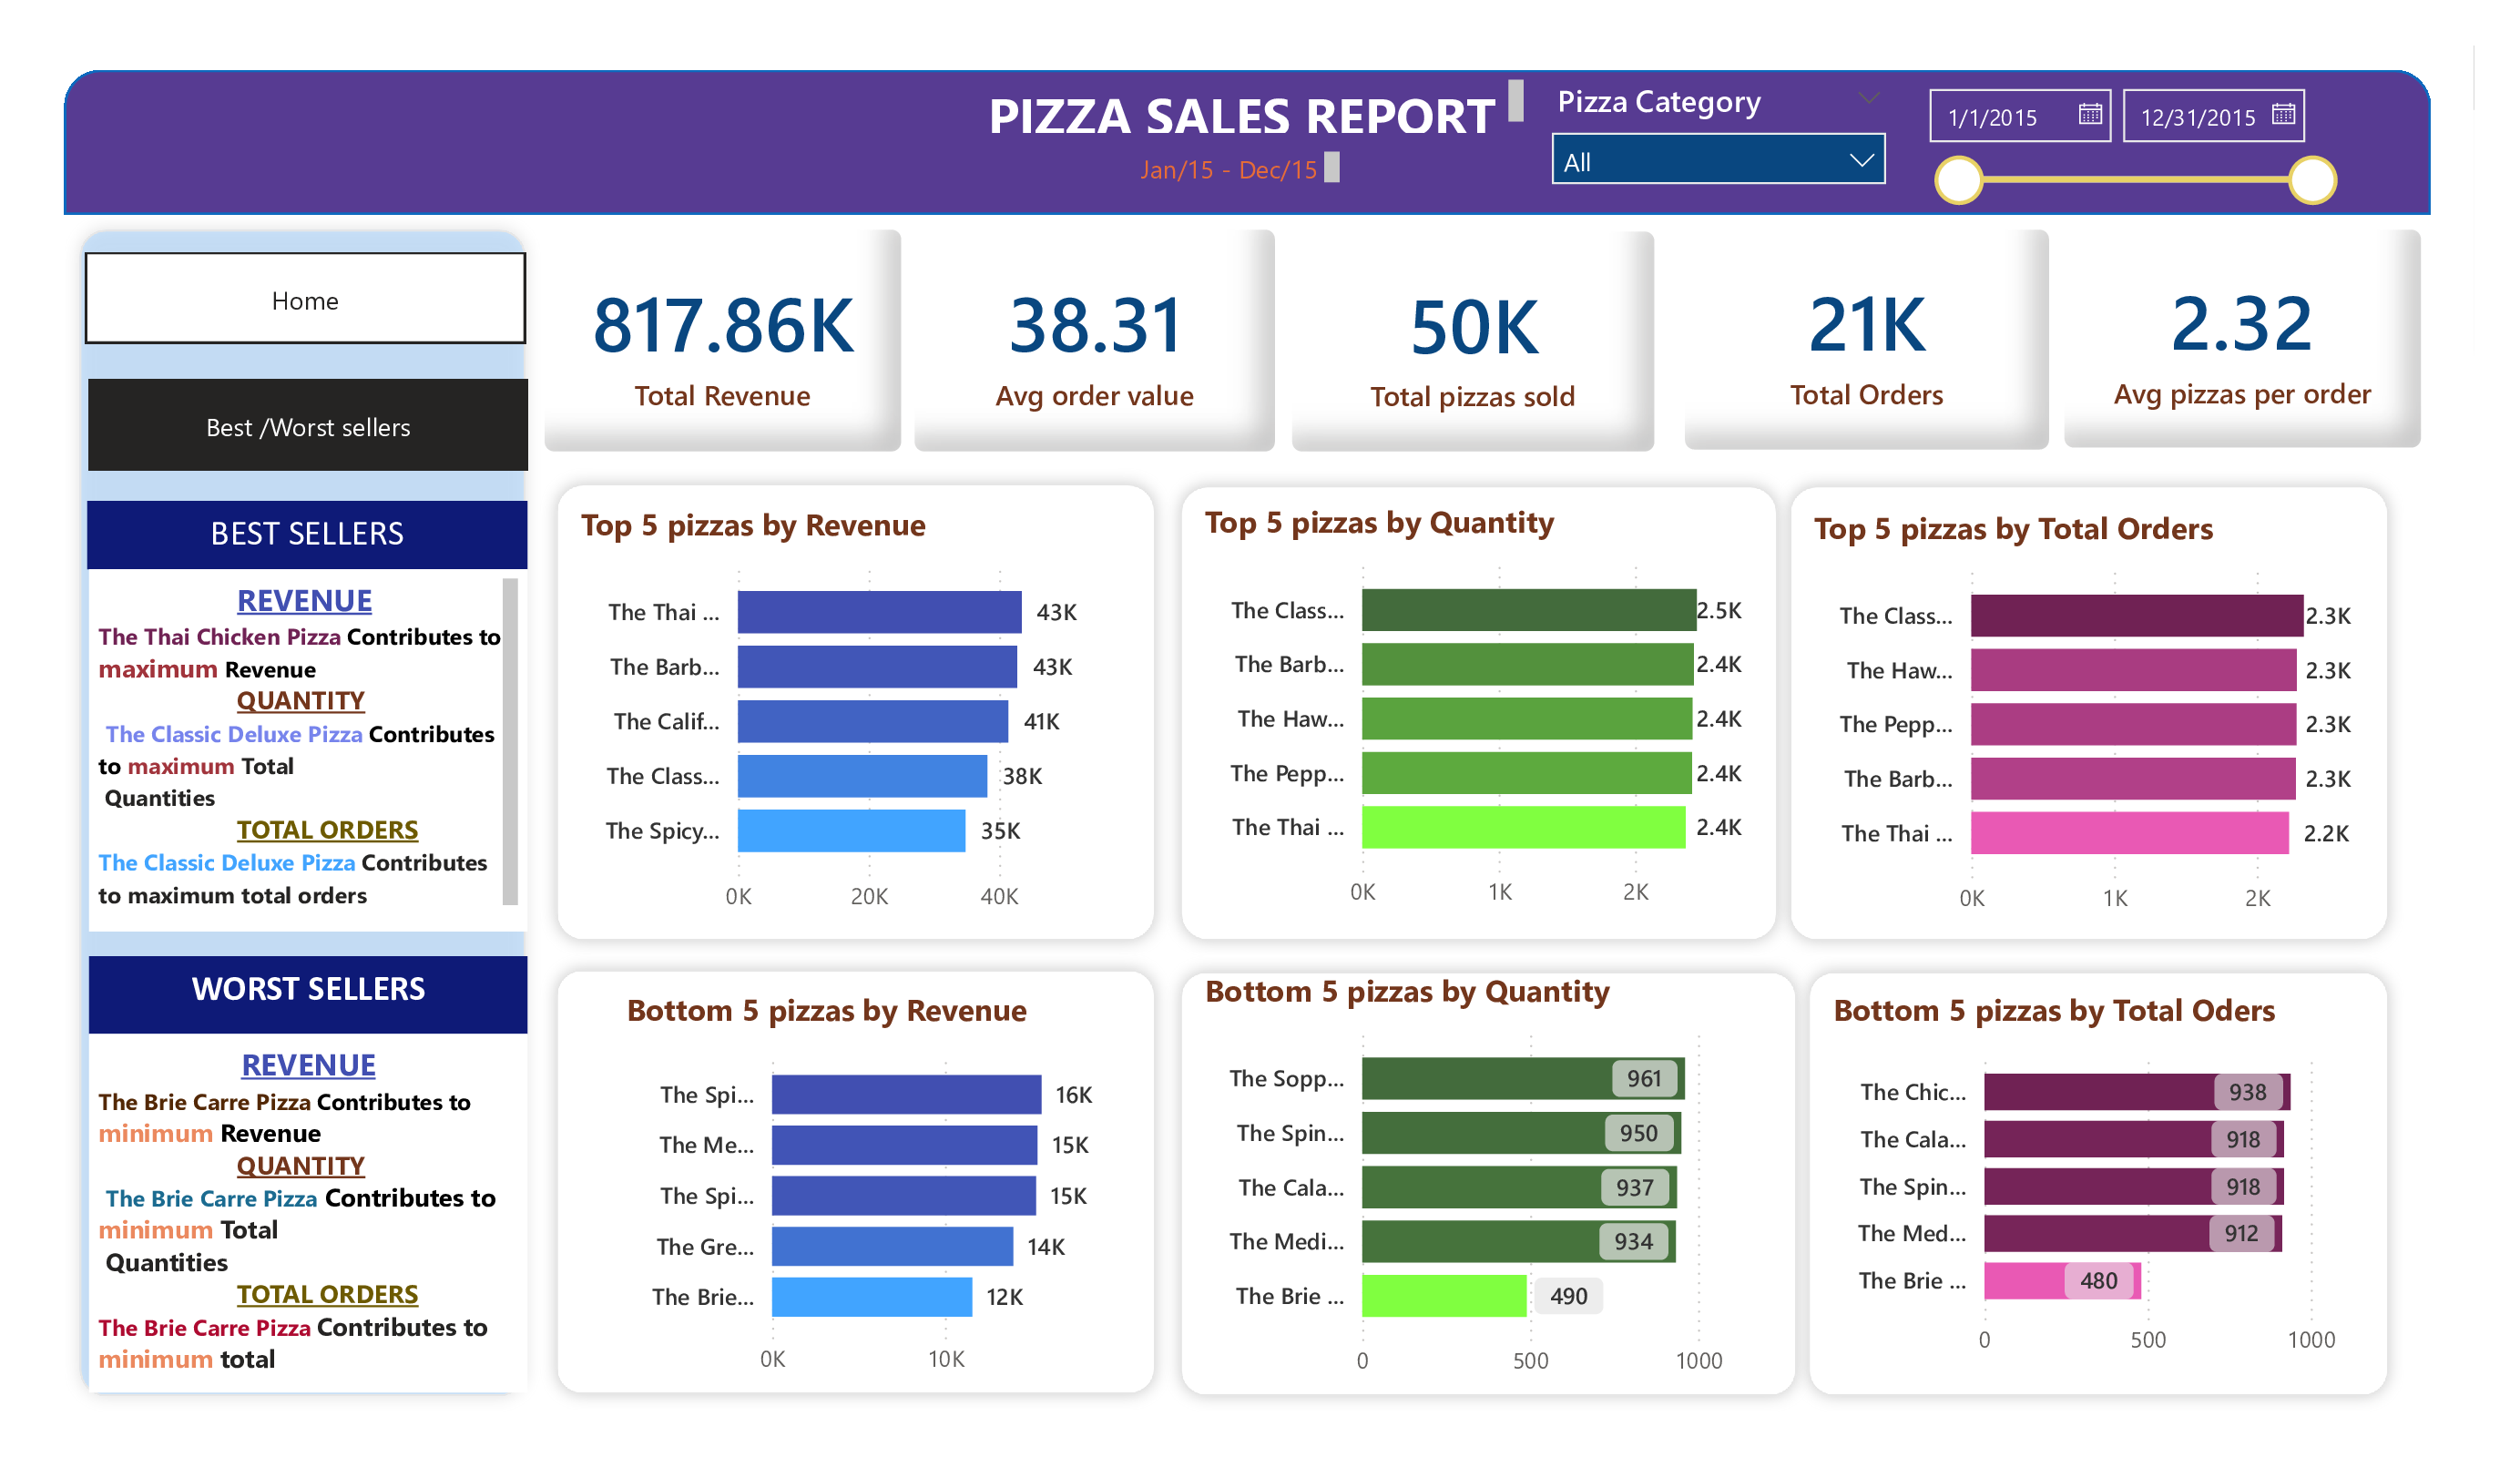

What the dashboard file says about the page in this screenshot:
{"tool":"powerbi","page":{"name":"Best /Worst sellers","canvas":[1280,720],"ordinal":1},"visuals":[{"type":"shape","box":[10,88.8,251.2,631.2],"z":0},{"type":"card","fields":{"Values":["pizza_sales.Total Revenue"]},"box":[262.1,96.1,190,119],"z":1000},{"type":"card","fields":{"Values":["pizza_sales.Avg order value"]},"box":[456.9,96.1,192.1,119],"z":2000},{"type":"card","fields":{"Values":["pizza_sales.Total pizzas sold"]},"box":[655.9,97.4,193.5,118],"z":3000},{"type":"card","fields":{"Values":["pizza_sales.Total Orders"]},"box":[863.1,96.1,193.5,118],"z":4000},{"type":"shape","box":[10,12.9,1247.1,75.7],"z":5000},{"type":"card","fields":{"Values":["pizza_sales.Avg pizzas per order"]},"box":[1063.5,96.1,189.4,116.6],"z":6000},{"type":"textbox","box":[485,13,299,38],"z":7000},{"type":"textbox","box":[569,51,118,26],"z":8000},{"type":"shape","box":[261.4,222.9,331.4,257.1],"z":9000},{"type":"shape","box":[911.4,224.3,331.4,255.7],"z":10000},{"type":"textbox","box":[22,240.1,231.9,35.7],"z":11000},{"type":"textbox","box":[22.9,275.7,231.4,191.4],"z":12000},{"type":"textbox","box":[22.5,480,231.2,41.2],"z":13000},{"type":"textbox","box":[22.5,521.2,231.2,188.8],"z":14000},{"type":"slicer","fields":{"Values":["pizza_sales.pizza_category"]},"box":[784.3,12.9,195.7,75.7],"z":15000},{"type":"slicer","fields":{"Values":["pizza_sales.order_date"]},"box":[980,12.9,235.7,75.7],"z":16000},{"type":"shape","box":[590,224.3,331.4,255.7],"z":17000},{"type":"shape","box":[921.4,480,321.4,240],"z":18000},{"type":"shape","box":[590,480,341.4,240],"z":19000},{"type":"shape","box":[261.4,478.6,331.4,240],"z":20000},{"type":"barChart","title":"Top 5 pizzas by Revenue","fields":{"Category":["pizza_sales.pizza_name"],"Y":["pizza_sales.Total Revenue"]},"box":[277.1,241.4,300,224.3],"z":21000},{"type":"barChart","title":"Bottom 5 pizzas by Revenue","fields":{"Category":["pizza_sales.pizza_name"],"Y":["pizza_sales.Total Revenue"]},"box":[301.4,497.1,275.7,212.9],"z":22000},{"type":"barChart","title":"Top 5 pizzas by Quantity","fields":{"Category":["pizza_sales.pizza_name"],"Y":["pizza_sales.Total pizzas sold"]},"box":[605.7,240,300,224.3],"z":23000},{"type":"barChart","title":"Bottom 5 pizzas by Quantity","fields":{"Category":["pizza_sales.pizza_name"],"Y":["pizza_sales.Total pizzas sold"]},"box":[605.7,487.1,300,224.3],"z":24000},{"type":"barChart","title":"Top 5 pizzas by Total Orders","fields":{"Category":["pizza_sales.pizza_name"],"Y":["pizza_sales.Total Orders"]},"box":[927.1,242.9,300,224.3],"z":25000},{"type":"barChart","title":"Bottom 5 pizzas by Total Oders","fields":{"Category":["pizza_sales.pizza_name"],"Y":["pizza_sales.Total Orders"]},"box":[937.1,497.1,290,202.9],"z":26000},{"type":"pageNavigator","box":[21.4,108.6,231.4,48.6],"z":26001},{"type":"pageNavigator","box":[22.9,175.7,231.4,48.6],"z":26002}]}

Visuals, with their boxes on the page's 1280x720 design canvas (x1, y1, x2, y2). These are canvas units, not pixel positions in the 2520x1457 screenshot, which may show the page scaled, cropped or inside an application window:
shape: [left=10, top=89, right=261, bottom=720]
card - pizza_sales.Total Revenue: [left=262, top=96, right=452, bottom=215]
card - pizza_sales.Avg order value: [left=457, top=96, right=649, bottom=215]
card - pizza_sales.Total pizzas sold: [left=656, top=97, right=849, bottom=215]
card - pizza_sales.Total Orders: [left=863, top=96, right=1057, bottom=214]
shape: [left=10, top=13, right=1257, bottom=89]
card - pizza_sales.Avg pizzas per order: [left=1064, top=96, right=1253, bottom=213]
textbox: [left=485, top=13, right=784, bottom=51]
textbox: [left=569, top=51, right=687, bottom=77]
shape: [left=261, top=223, right=593, bottom=480]
shape: [left=911, top=224, right=1243, bottom=480]
textbox: [left=22, top=240, right=254, bottom=276]
textbox: [left=23, top=276, right=254, bottom=467]
textbox: [left=22, top=480, right=254, bottom=521]
textbox: [left=22, top=521, right=254, bottom=710]
slicer - pizza_sales.pizza_category: [left=784, top=13, right=980, bottom=89]
slicer - pizza_sales.order_date: [left=980, top=13, right=1216, bottom=89]
shape: [left=590, top=224, right=921, bottom=480]
shape: [left=921, top=480, right=1243, bottom=720]
shape: [left=590, top=480, right=931, bottom=720]
shape: [left=261, top=479, right=593, bottom=719]
"Top 5 pizzas by Revenue" barChart: [left=277, top=241, right=577, bottom=466]
"Bottom 5 pizzas by Revenue" barChart: [left=301, top=497, right=577, bottom=710]
"Top 5 pizzas by Quantity" barChart: [left=606, top=240, right=906, bottom=464]
"Bottom 5 pizzas by Quantity" barChart: [left=606, top=487, right=906, bottom=711]
"Top 5 pizzas by Total Orders" barChart: [left=927, top=243, right=1227, bottom=467]
"Bottom 5 pizzas by Total Oders" barChart: [left=937, top=497, right=1227, bottom=700]
pageNavigator: [left=21, top=109, right=253, bottom=157]
pageNavigator: [left=23, top=176, right=254, bottom=224]
